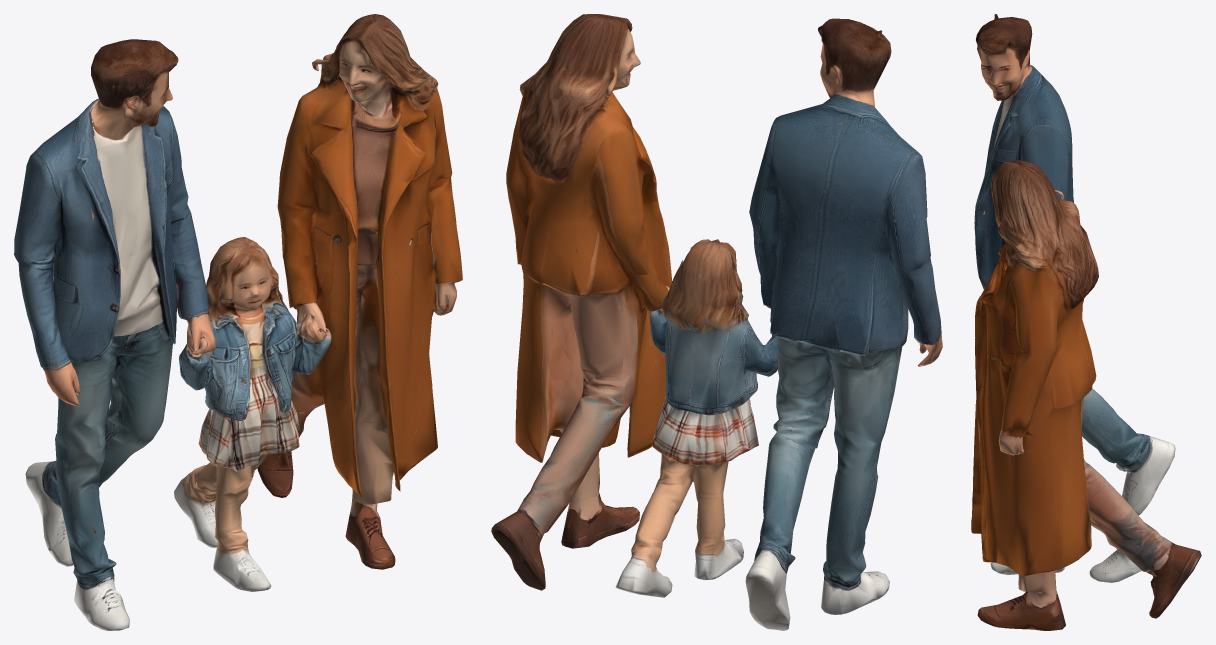
Rendered from family.glb.
3 views of the same model, side by side, from view 1: azimuth 30°, elevation 25°; view 2: azimuth 150°, elevation 25°; view 3: azimuth 270°, elevation 25° (orthographic). The views are drawn at different scales.
Size of the model in its own units: 1.49 by 1.9 by 0.7958.
Materials: 1 (1 with a texture image).
